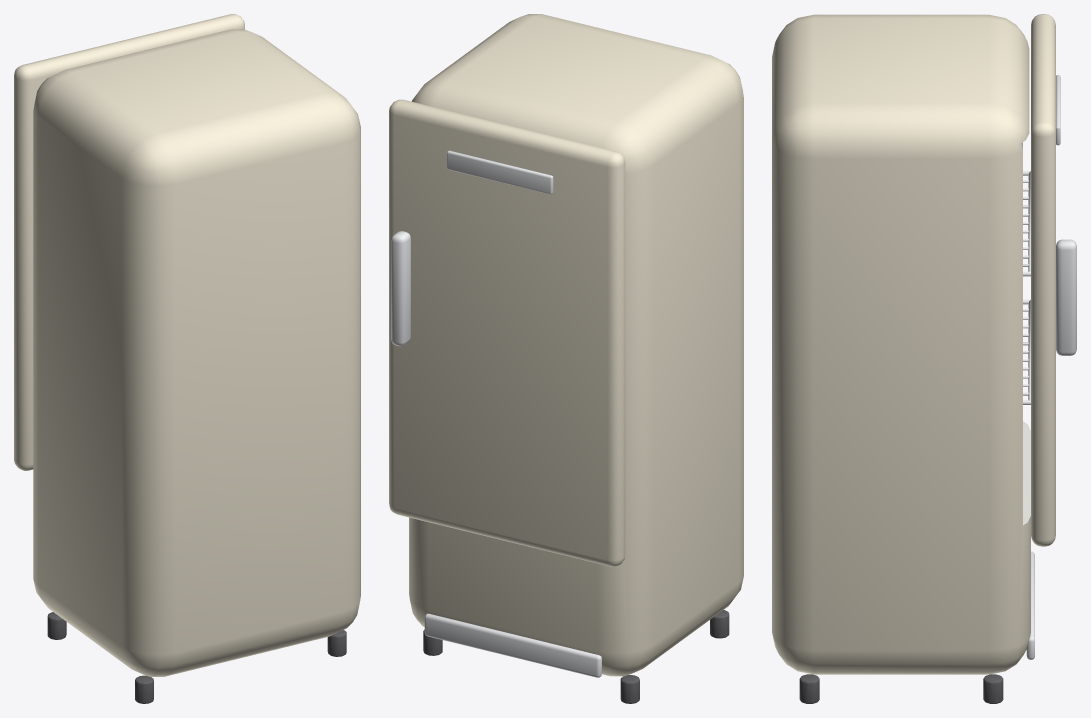
Rendered from Lodowka.fbx.
3 views of the same model, side by side, from view 1: azimuth 30°, elevation 25°; view 2: azimuth 150°, elevation 25°; view 3: azimuth 270°, elevation 25° (orthographic). The views are drawn at different scales.
Visible parts, largest first — view 1: Lodowka_Korpus, Lodowka_Drzwi; view 2: Lodowka_Korpus, Lodowka_Drzwi; view 3: Lodowka_Korpus, Lodowka_Drzwi, Lodowka_Polki.
Boxes of the visible parts, box(x1,y1,x2,y2) form: Lodowka_Korpus: box(33, 29, 360, 703); Lodowka_Drzwi: box(14, 14, 244, 470); Lodowka_Korpus: box(409, 14, 743, 703); Lodowka_Drzwi: box(389, 99, 625, 566); Lodowka_Korpus: box(772, 14, 1034, 703); Lodowka_Drzwi: box(1031, 14, 1076, 546); Lodowka_Polki: box(1023, 171, 1030, 404).
Size of the model in its own units: 0.68 by 1.56 by 0.73.
